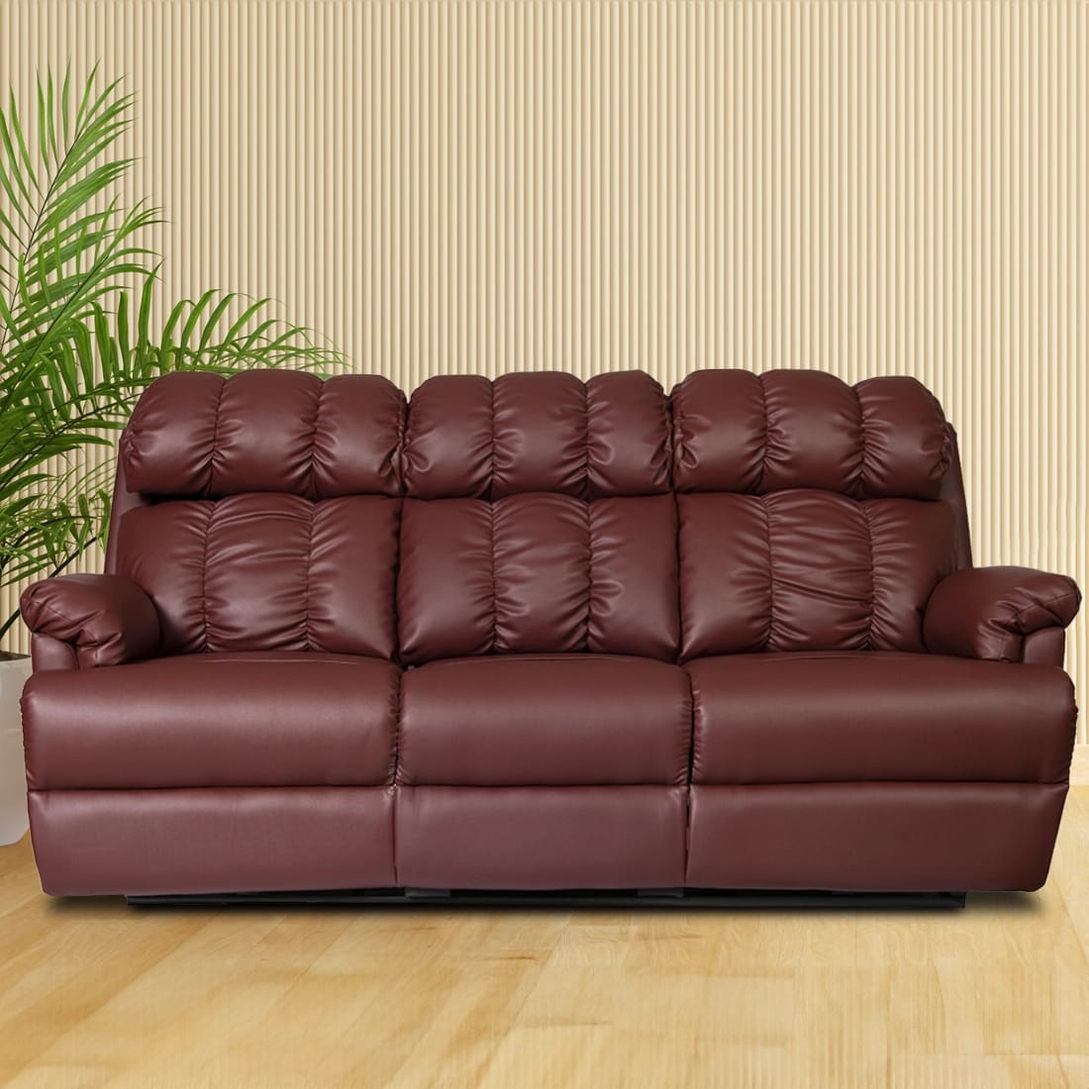3seatersofa: (22, 369, 1078, 902)
backrest: (109, 369, 971, 664)
base: (31, 783, 1064, 894)
leftarmrest: (925, 566, 1080, 665)
rightarmrest: (21, 574, 161, 669)
seat: (25, 653, 1072, 792)
